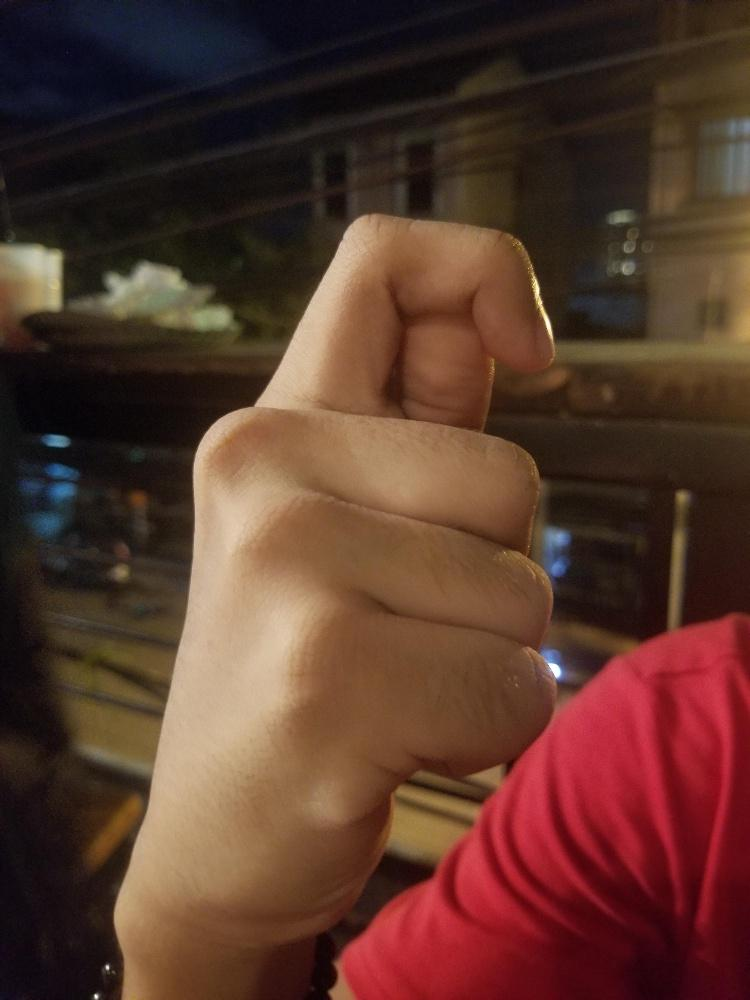t: (120, 208, 556, 935)
